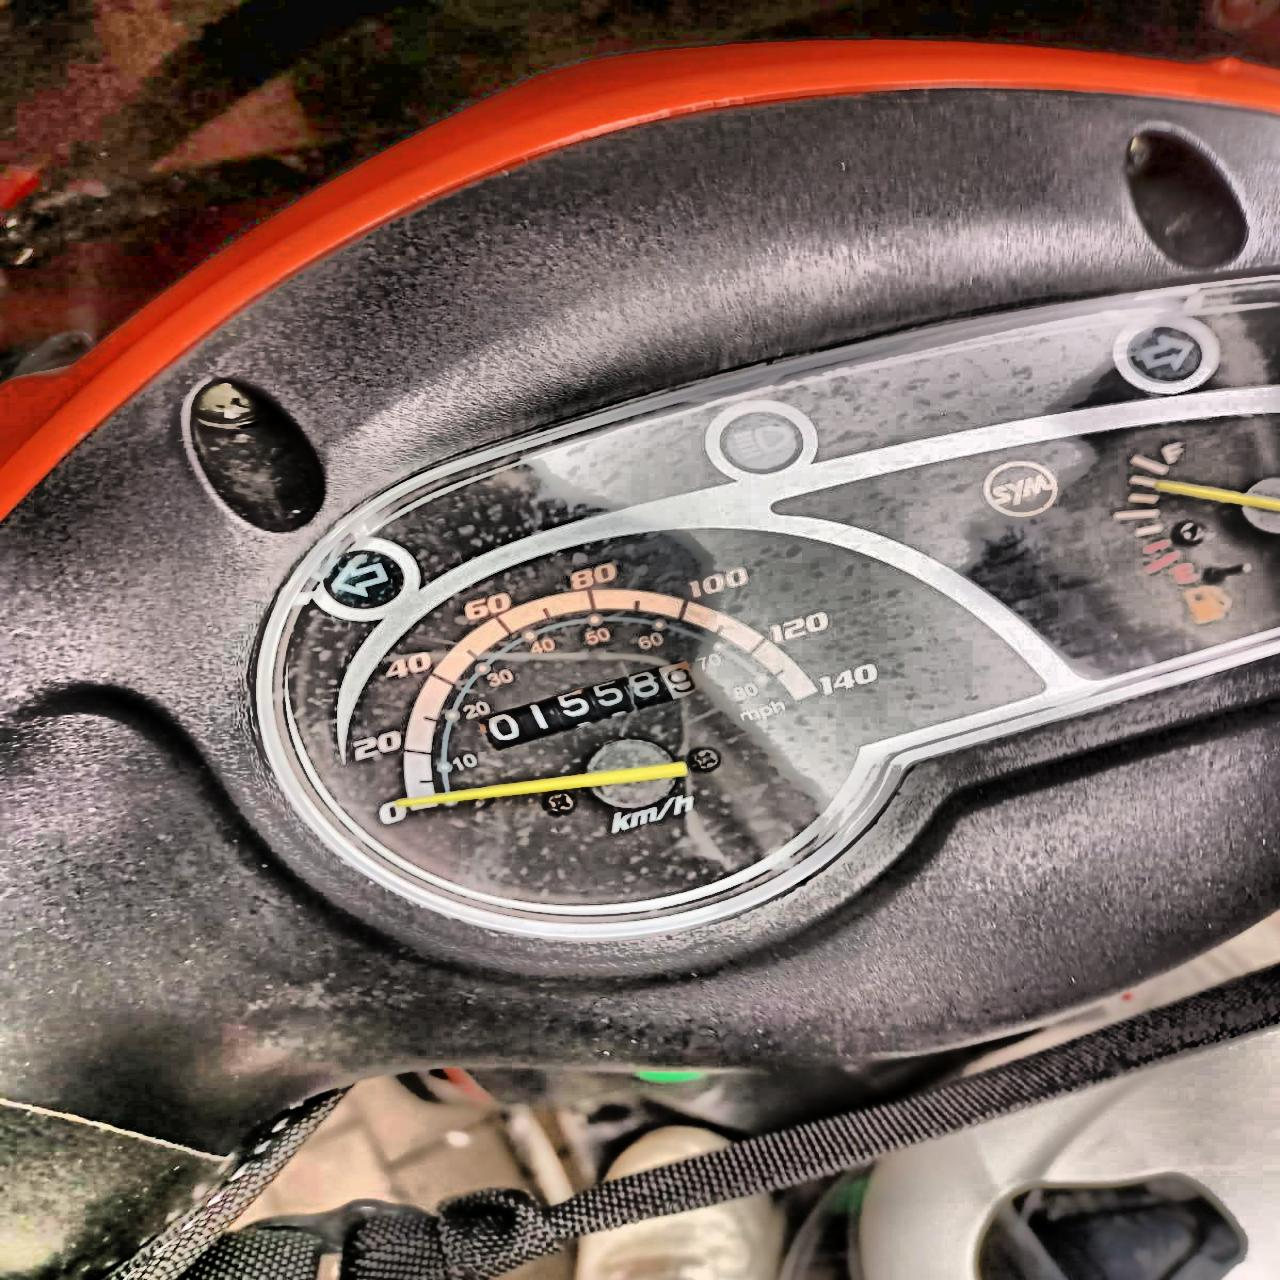0: (485, 713, 518, 742), (475, 700, 490, 715), (498, 668, 513, 682)
1: (525, 701, 550, 731)
3: (482, 672, 498, 689)
5: (552, 688, 590, 717), (591, 680, 624, 706)
8: (628, 673, 661, 697)
9: (666, 668, 696, 693)
odometer: (472, 659, 699, 757)
